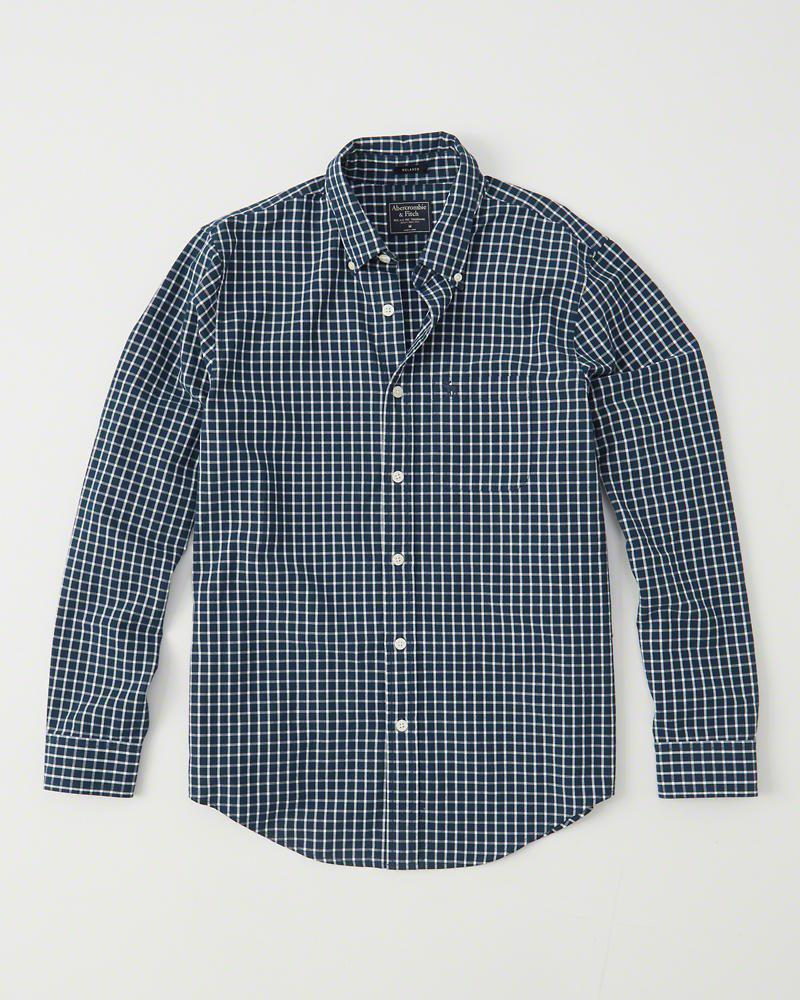teeshirt: (39, 119, 767, 874)
